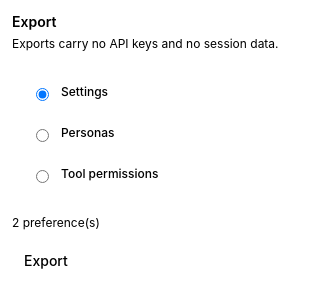
Test: the persona summary counts only the custom ones
The image size is (332, 286).
Click the radio button labelled "Personas" at (42, 136), box [36,129,49,142]
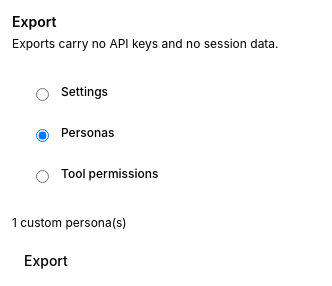
Expected: the text with test id "portable-export-summary" reads "1 custom persona(s)", [12,215,127,230]
